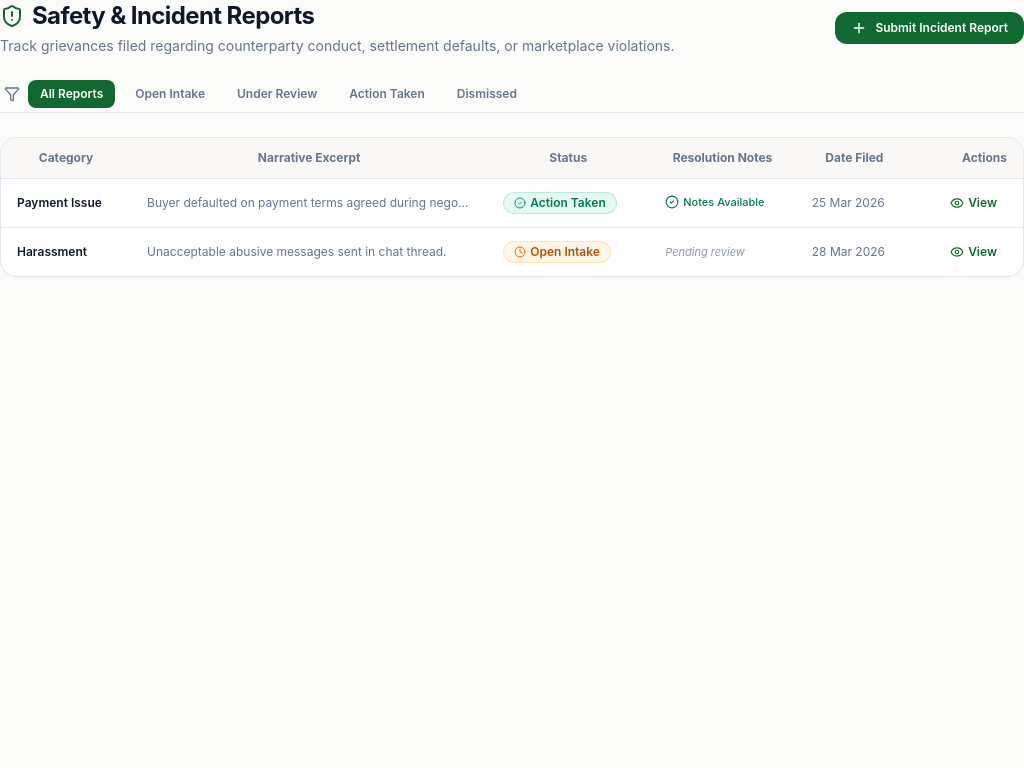
Test: UserReportsPage › opens ReportDetailModal and displays narrative and moderator notes
Click the button with aria-label "View report rep-001". click: {"x": 974, "y": 203}
box: [940,191,1007,215]
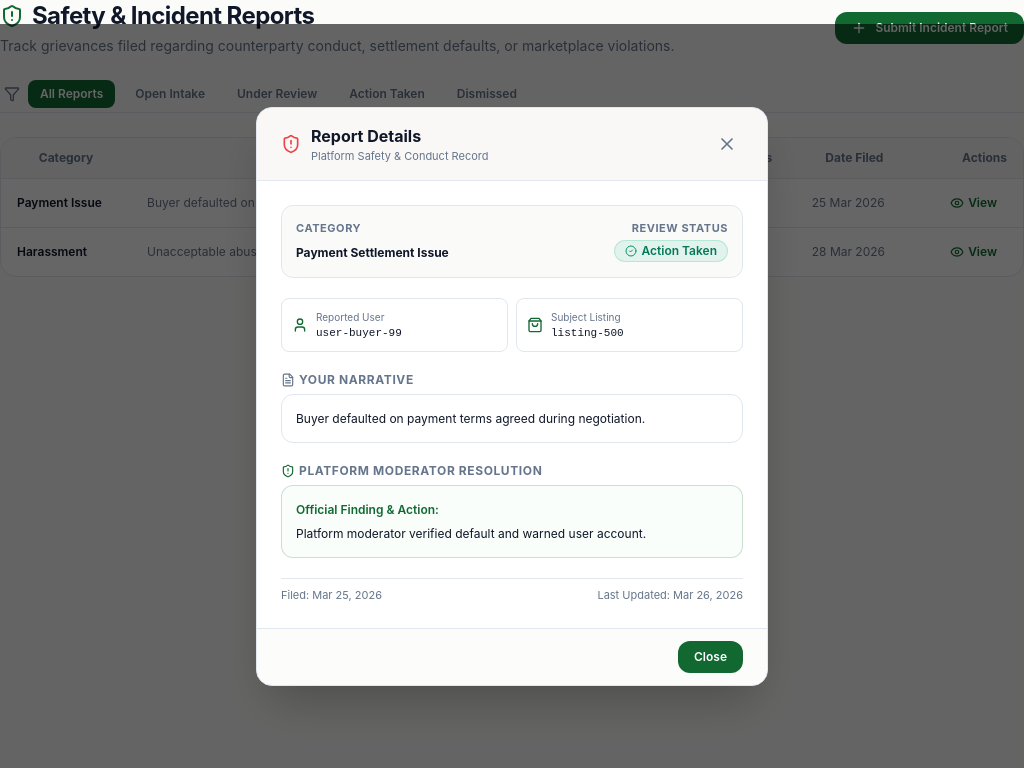
Result: the heading "Report Details" is shown at [311,126,421,146]
Result: the text "Platform moderator verified default and warned user account." is shown at [296,526,646,540]
